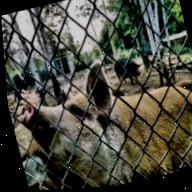boar: (7, 55, 192, 192), (99, 52, 146, 92)
